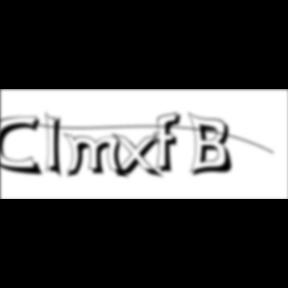B: (188, 111, 238, 179)
C: (0, 115, 46, 178)
I: (45, 110, 69, 182)
f: (154, 111, 188, 175)
m: (63, 132, 131, 181)
x: (112, 132, 168, 181)
